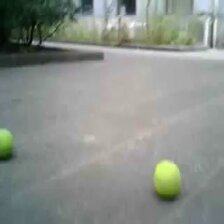tennis: (155, 162, 181, 197), (1, 128, 14, 161)
